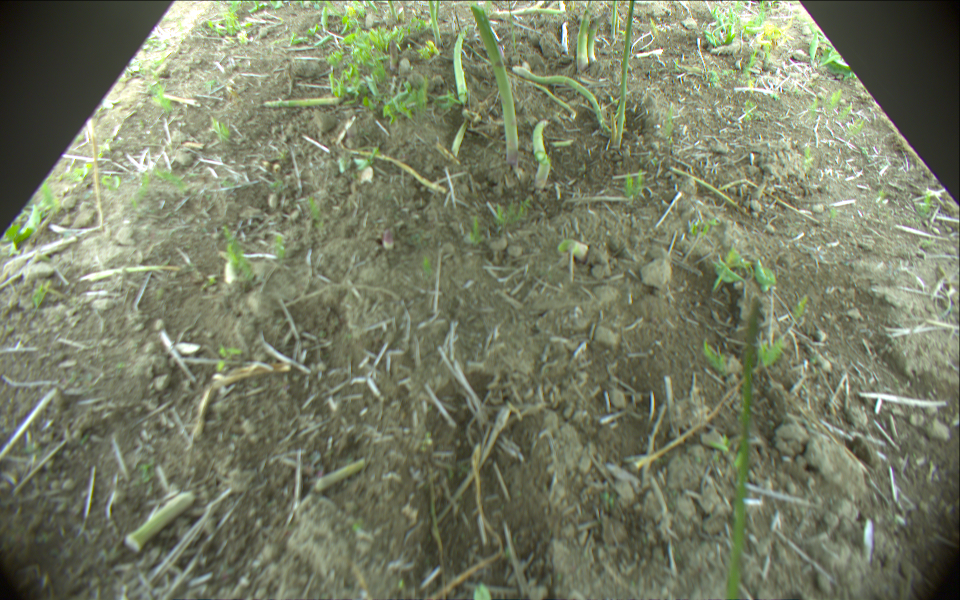aspa: (722, 295, 762, 600), (470, 6, 519, 164), (511, 64, 605, 124), (125, 491, 194, 551), (617, 1, 638, 145), (532, 118, 549, 190), (455, 27, 469, 101), (262, 97, 338, 109), (576, 9, 589, 72), (427, 1, 441, 44), (492, 7, 565, 15), (587, 20, 599, 61), (610, 1, 618, 39), (388, 1, 397, 20)
